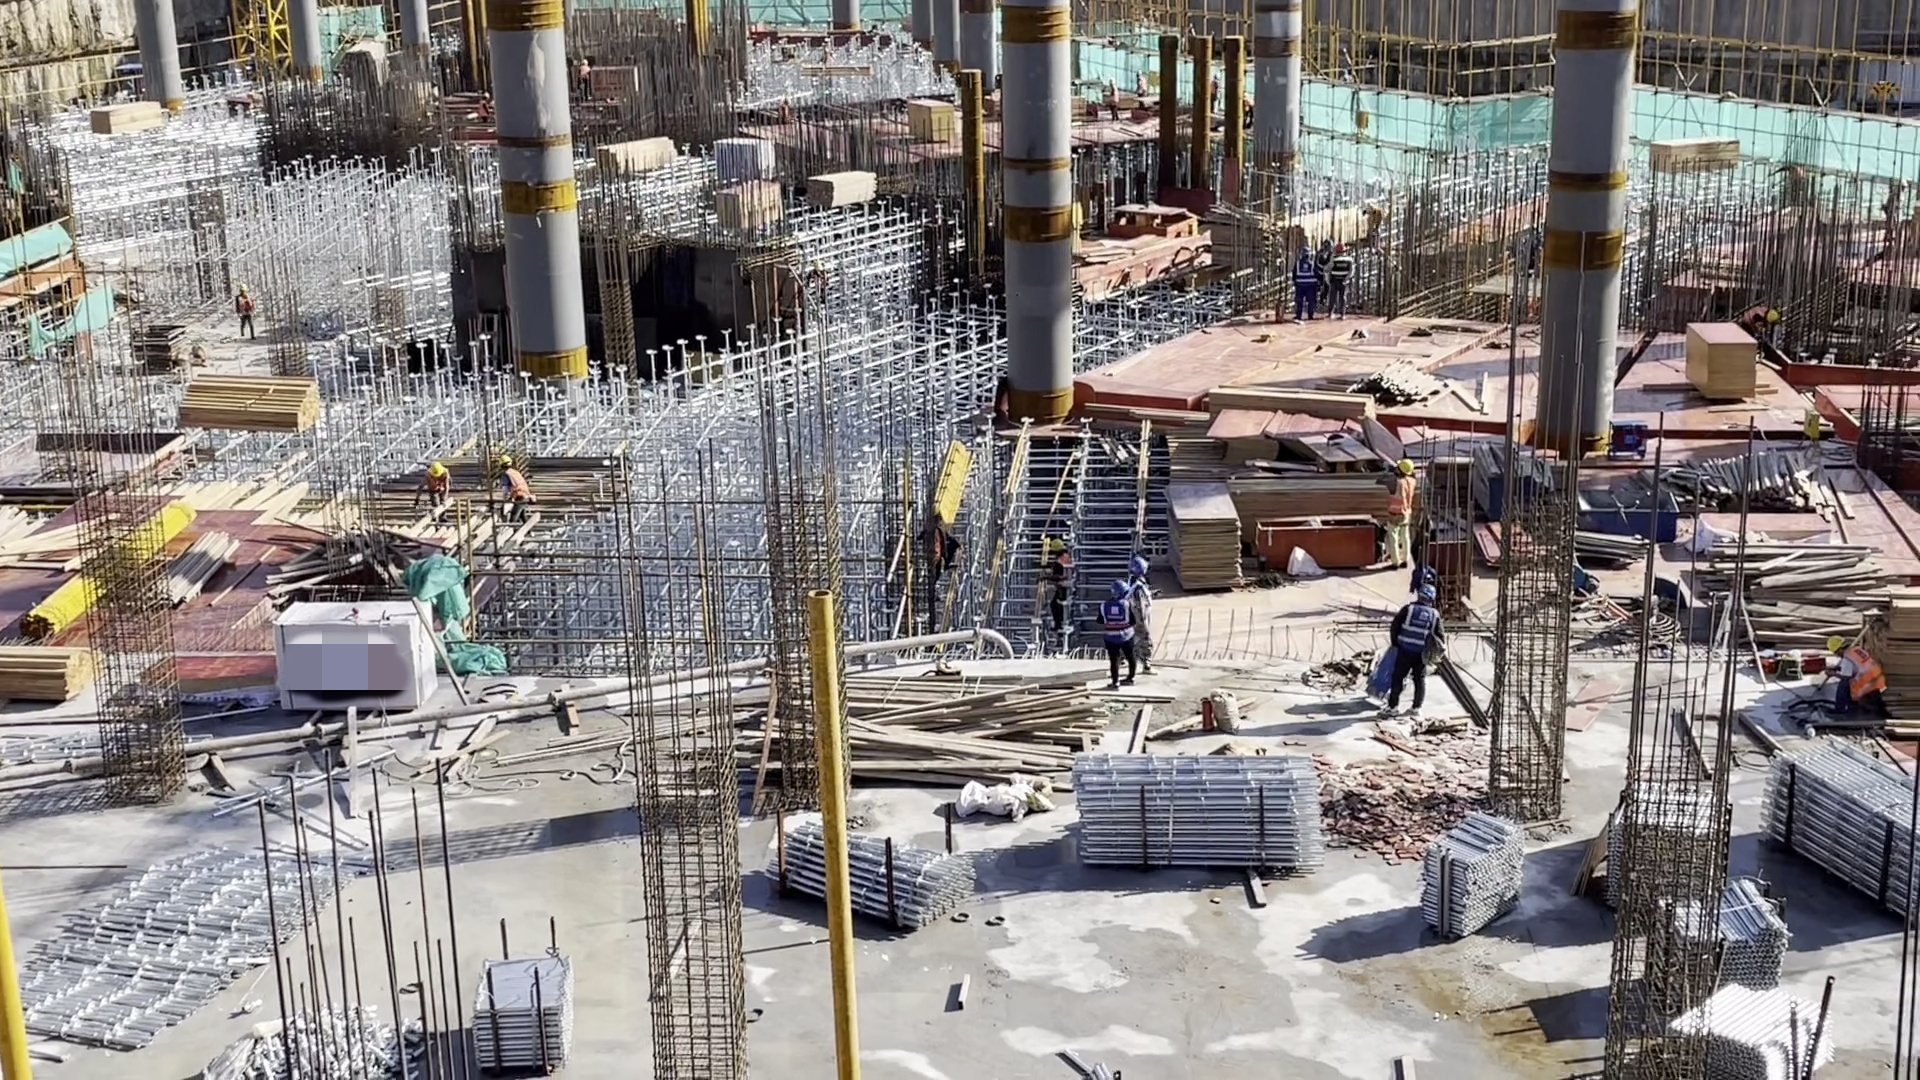helmet: (484, 452, 514, 475), (1826, 630, 1848, 658), (427, 459, 451, 483), (1392, 457, 1415, 483), (1417, 583, 1437, 603), (1049, 542, 1070, 560), (1111, 581, 1130, 601), (1126, 558, 1144, 574), (1765, 308, 1780, 325), (236, 284, 250, 298), (1136, 69, 1147, 79), (481, 93, 490, 100), (579, 59, 587, 66)
person: (1818, 632, 1893, 727), (1093, 579, 1148, 686), (1393, 581, 1431, 714), (483, 448, 535, 532), (1038, 532, 1078, 629), (1383, 458, 1416, 572), (1122, 551, 1161, 631), (405, 456, 455, 512), (1736, 303, 1779, 357), (1293, 244, 1320, 317), (1329, 241, 1352, 319), (1312, 234, 1336, 301), (229, 282, 260, 334), (1104, 79, 1124, 126), (1207, 68, 1222, 117), (1134, 67, 1152, 107), (579, 55, 595, 100), (474, 92, 492, 116)
vest: (1846, 650, 1881, 701), (1399, 605, 1431, 655), (1099, 601, 1132, 641), (499, 471, 533, 507), (1387, 483, 1413, 525), (1293, 260, 1314, 295), (1331, 257, 1352, 284)
